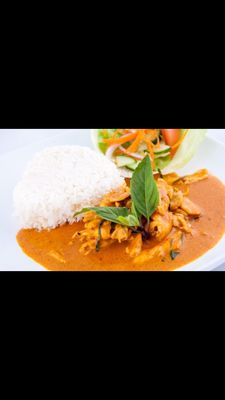soup: (13, 136, 224, 269)
